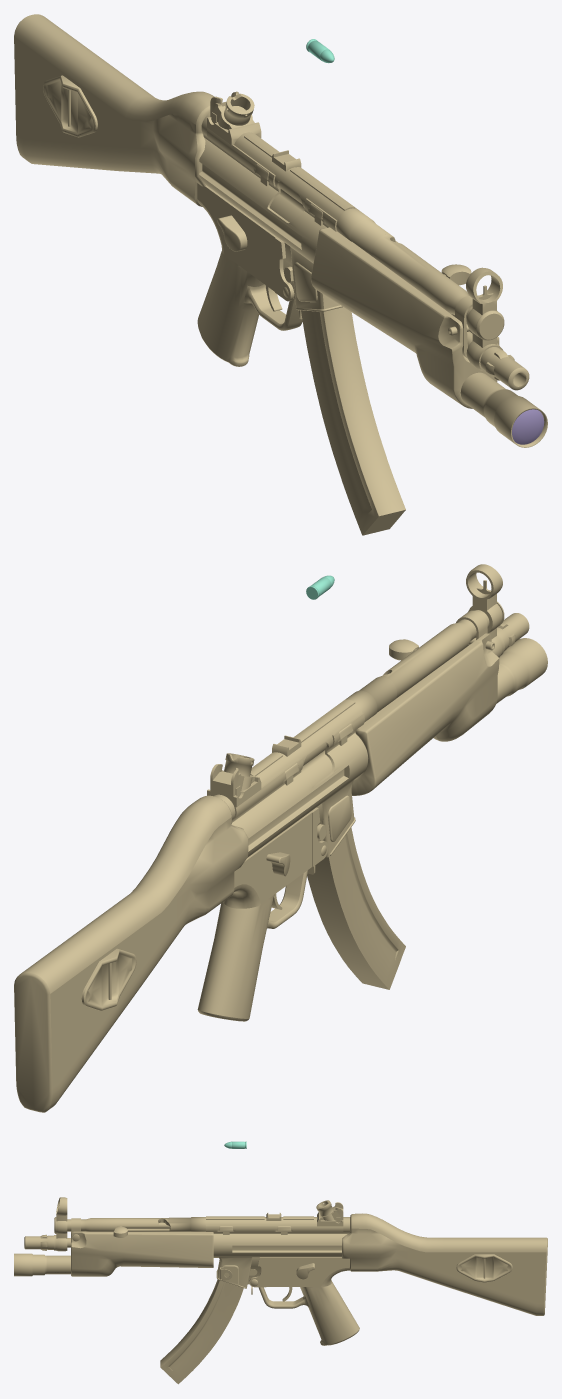
The model's file is WPN_MP5.FBX.
3 renders of one model, top to bottom at view 1: azimuth 30°, elevation 25°; view 2: azimuth 150°, elevation 25°; view 3: azimuth 270°, elevation 25°, orthographic. The views are drawn at different scales.
Parts seen in each view (by area): view 1: WPN_MP5, WPN_MP5_magazine, WPN_MP5_flashlight, WPN_MP5_flashlight_lense, WPN_MP5_ejector, WPN_MP5_FireSelector; view 2: WPN_MP5, WPN_MP5_magazine, WPN_MP5_flashlight, WPN_MP5_ejector; view 3: WPN_MP5, WPN_MP5_magazine, WPN_MP5_flashlight, WPN_MP5_handle.
Part boxes in pixels (x1,y1,x2,y2): WPN_MP5: [14, 14, 529, 408]; WPN_MP5_magazine: [301, 307, 405, 535]; WPN_MP5_flashlight: [460, 372, 547, 447]; WPN_MP5_flashlight_lense: [512, 409, 544, 444]; WPN_MP5_ejector: [269, 181, 304, 222]; WPN_MP5_FireSelector: [217, 215, 247, 251]; WPN_MP5: [14, 564, 529, 1112]; WPN_MP5_magazine: [307, 827, 405, 989]; WPN_MP5_flashlight: [496, 638, 547, 703]; WPN_MP5_ejector: [301, 742, 332, 786]; WPN_MP5: [24, 1197, 547, 1345]; WPN_MP5_magazine: [160, 1279, 243, 1384]; WPN_MP5_flashlight: [14, 1253, 70, 1276]; WPN_MP5_handle: [113, 1222, 170, 1237].
Size of the model in its own units: 5.91 by 35.25 by 71.35.
